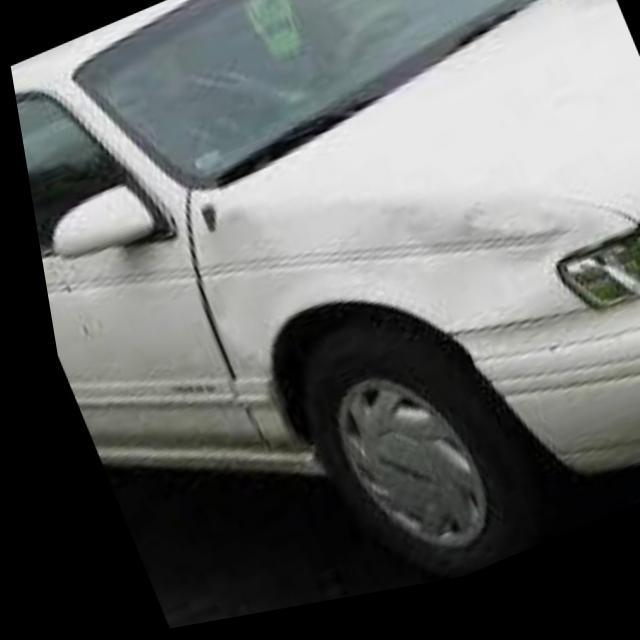dent: (193, 198, 550, 373)
